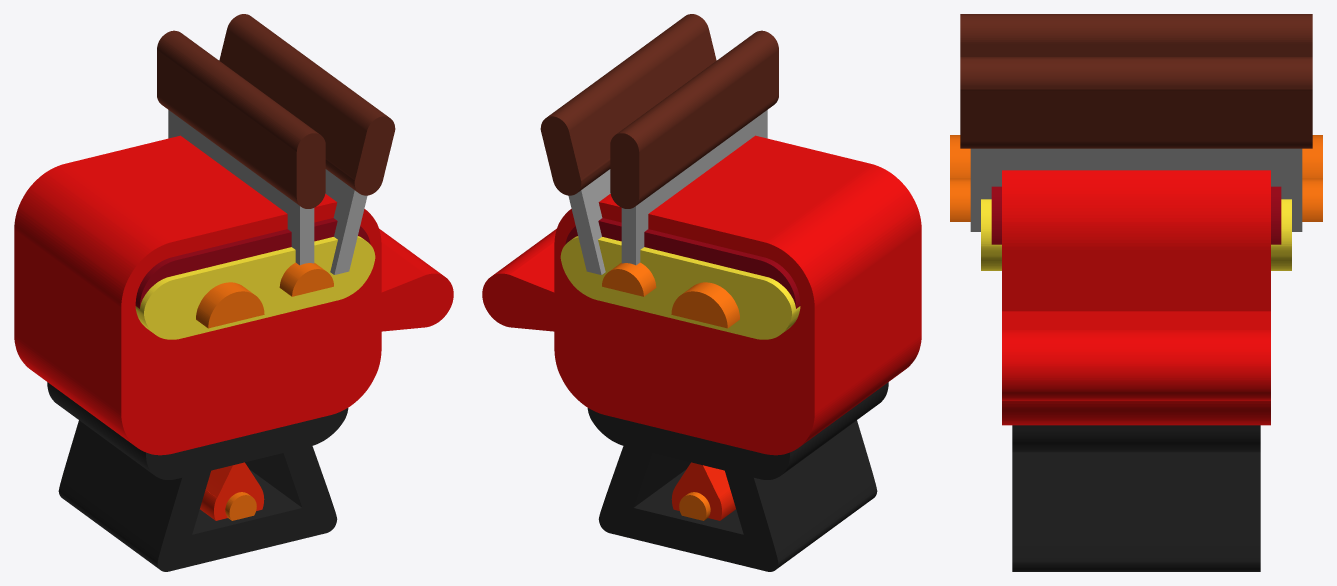
The model's file is U+1FAD5.obj.
The picture shows the model from 3 angles, left to right: view 1: azimuth 30°, elevation 25°; view 2: azimuth 150°, elevation 25°; view 3: azimuth 270°, elevation 25°; orthographic projection. The views are drawn at different scales.
Parts seen in each view (by area): view 1: U+1FAD5_layer03_obj00, U+1FAD5_layer02_obj00, U+1FAD5_layer07_obj00, U+1FAD5_layer05_obj00, U+1FAD5_layer06_obj00, U+1FAD5_layer04_obj00, U+1FAD5_layer08_obj00, U+1FAD5_layer00_obj00, U+1FAD5_layer01_obj00; view 2: U+1FAD5_layer03_obj00, U+1FAD5_layer02_obj00, U+1FAD5_layer07_obj00, U+1FAD5_layer05_obj00, U+1FAD5_layer06_obj00, U+1FAD5_layer04_obj00, U+1FAD5_layer08_obj00, U+1FAD5_layer00_obj00, U+1FAD5_layer01_obj00; view 3: U+1FAD5_layer03_obj00, U+1FAD5_layer07_obj00, U+1FAD5_layer02_obj00, U+1FAD5_layer06_obj00, U+1FAD5_layer08_obj00, U+1FAD5_layer05_obj00, U+1FAD5_layer04_obj00.
Part boxes in pixels (x1,y1,x2,y2): U+1FAD5_layer03_obj00: (14,135,453,455); U+1FAD5_layer02_obj00: (47,382,348,571); U+1FAD5_layer07_obj00: (157,14,395,208); U+1FAD5_layer05_obj00: (135,236,375,339); U+1FAD5_layer06_obj00: (168,110,367,274); U+1FAD5_layer04_obj00: (135,218,370,308); U+1FAD5_layer08_obj00: (196,262,333,328); U+1FAD5_layer00_obj00: (200,462,264,520); U+1FAD5_layer01_obj00: (225,492,256,520); U+1FAD5_layer03_obj00: (482,135,921,455); U+1FAD5_layer02_obj00: (587,382,888,571); U+1FAD5_layer07_obj00: (540,14,778,208); U+1FAD5_layer05_obj00: (560,236,800,339); U+1FAD5_layer06_obj00: (568,110,767,274); U+1FAD5_layer04_obj00: (565,218,800,308); U+1FAD5_layer08_obj00: (602,262,739,328); U+1FAD5_layer00_obj00: (671,462,735,520); U+1FAD5_layer01_obj00: (679,492,710,520); U+1FAD5_layer03_obj00: (1002,170,1270,425); U+1FAD5_layer07_obj00: (960,14,1312,148); U+1FAD5_layer02_obj00: (1012,425,1260,571); U+1FAD5_layer06_obj00: (970,148,1302,231); U+1FAD5_layer08_obj00: (950,135,1322,221); U+1FAD5_layer05_obj00: (981,199,1291,270); U+1FAD5_layer04_obj00: (991,186,1281,244).
Size of the model in its own units: 0.4665 by 0.5677 by 0.36.
